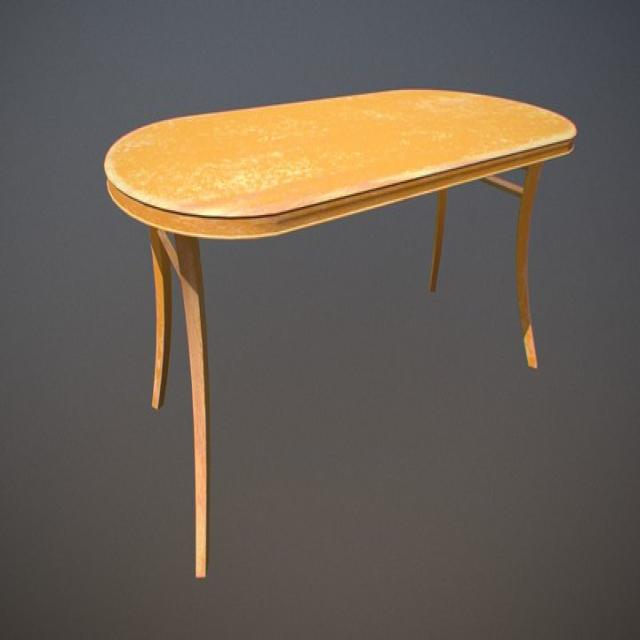table: (101, 88, 578, 578)
